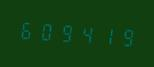four: (75, 19, 93, 48)
nine: (56, 18, 74, 46), (113, 22, 131, 50)
one: (94, 21, 112, 49)
six: (17, 15, 35, 44)
zero: (36, 17, 54, 45)
